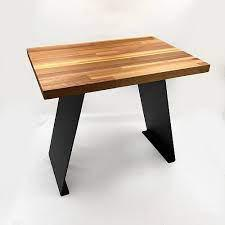chair: (18, 25, 211, 204)
